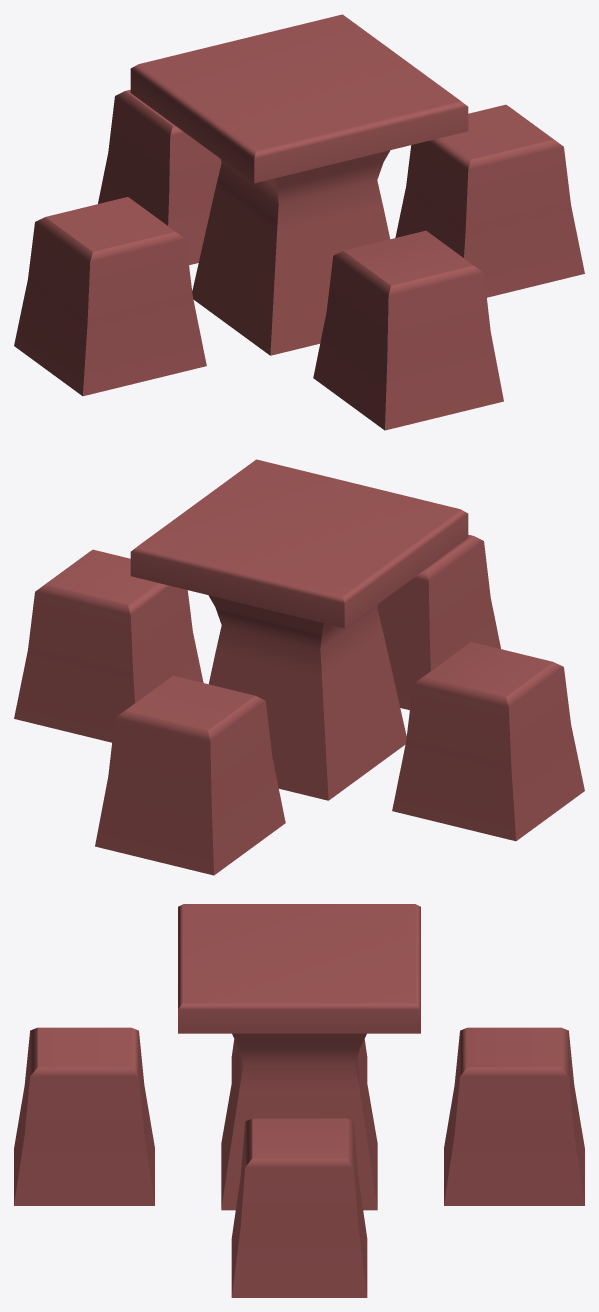
Rendered from Mesa.fbx.
The picture shows the model from 3 angles, top to bottom: view 1: azimuth 30°, elevation 25°; view 2: azimuth 150°, elevation 25°; view 3: azimuth 270°, elevation 25°; orthographic projection.
Visible parts, largest first — view 1: Mesa_High_UV1_polySurface41; view 2: Mesa_High_UV1_polySurface41; view 3: Mesa_High_UV1_polySurface41.
Part boxes in pixels (x1,y1,x2,y2): Mesa_High_UV1_polySurface41: (14,14,584,430); Mesa_High_UV1_polySurface41: (14,459,584,875); Mesa_High_UV1_polySurface41: (14,904,584,1297).
Bounding box in the file's own units: 3.32 × 1.44 × 3.32.
